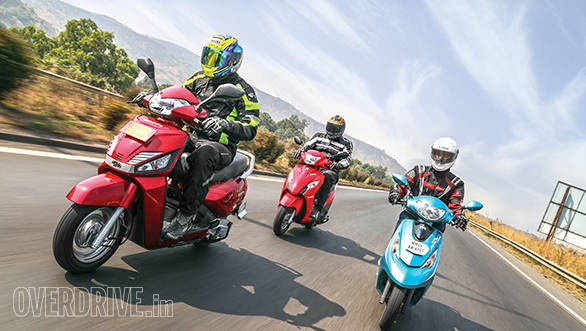helmet: (199, 34, 242, 83), (426, 137, 459, 170), (323, 113, 347, 138)
